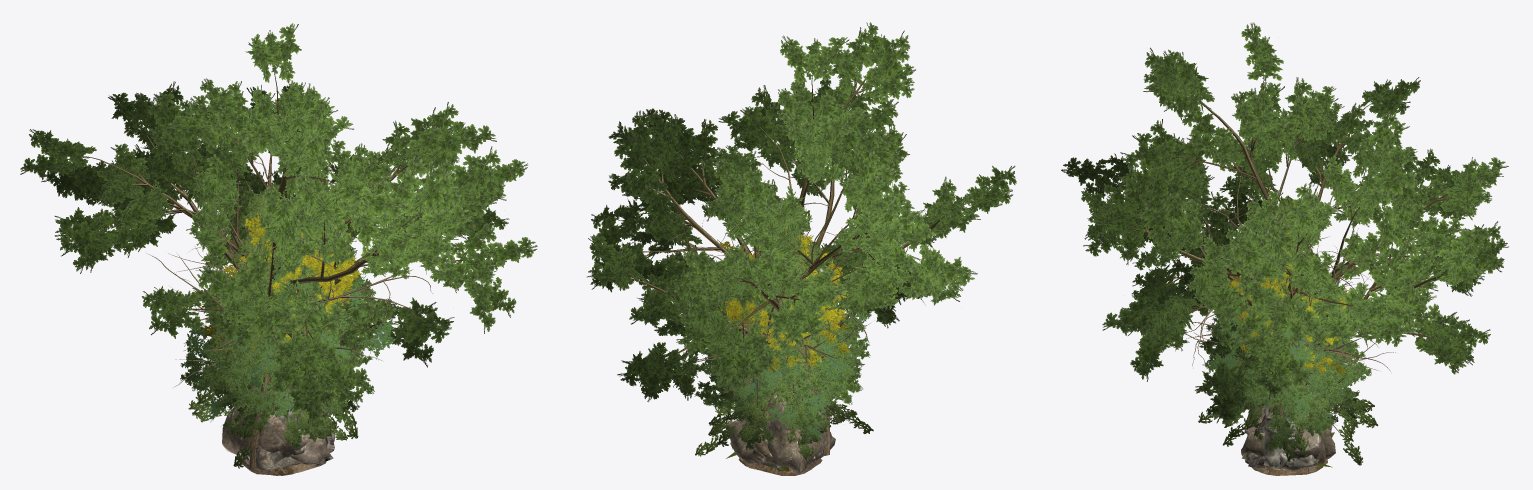
File: nature.gltf
The picture shows the model from 3 angles, left to right: view 1: azimuth 30°, elevation 25°; view 2: azimuth 150°, elevation 25°; view 3: azimuth 270°, elevation 25°; orthographic projection. The views are drawn at different scales.
Visible parts, largest first — view 1: TwistedTree_1, CommonTree_1~b, CommonTree_5, Pine_4, CommonTree_2~b, CommonTree_1, Rock_Medium_3, Pine_4~b, DeadTree_2, CommonTree_4, CommonTree_2, CommonTree_3~b (+3 smaller); view 2: TwistedTree_1, CommonTree_1~b, Pine_4, Pine_4~b, Rock_Medium_3, CommonTree_1, CommonTree_5, CommonTree_2, CommonTree_2~b, CommonTree_4, CommonTree_3~b, CommonTree_3 (+3 smaller); view 3: TwistedTree_1, CommonTree_1, Pine_4, CommonTree_1~b, CommonTree_5, CommonTree_2~b, Pine_4~b, Rock_Medium_3, DeadTree_2, Rock_Medium_3~b, CommonTree_4, Rock_Medium_3~c (+4 smaller).
Boxes of the visible parts, x1,y1,x2,y2 form: TwistedTree_1: [20, 23, 537, 423]; CommonTree_1~b: [180, 263, 374, 426]; CommonTree_5: [191, 278, 384, 441]; Pine_4: [188, 182, 358, 468]; CommonTree_2~b: [184, 259, 398, 404]; CommonTree_1: [196, 264, 372, 449]; Rock_Medium_3: [222, 388, 307, 459]; Pine_4~b: [195, 186, 346, 433]; DeadTree_2: [178, 158, 432, 469]; CommonTree_4: [200, 215, 364, 339]; CommonTree_2: [180, 336, 350, 422]; CommonTree_3~b: [211, 214, 356, 356]; TwistedTree_1: [587, 22, 1016, 401]; CommonTree_1~b: [694, 288, 870, 450]; Pine_4: [695, 202, 873, 460]; Pine_4~b: [708, 198, 857, 434]; Rock_Medium_3: [726, 394, 828, 474]; CommonTree_1: [687, 309, 854, 429]; CommonTree_5: [714, 300, 862, 427]; CommonTree_2: [701, 336, 856, 444]; CommonTree_2~b: [706, 269, 871, 393]; CommonTree_4: [721, 225, 845, 380]; CommonTree_3~b: [717, 225, 853, 358]; CommonTree_3: [722, 235, 852, 346]; TwistedTree_1: [1061, 22, 1508, 423]; CommonTree_1: [1205, 283, 1371, 451]; Pine_4: [1198, 195, 1378, 465]; CommonTree_1~b: [1206, 286, 1366, 437]; CommonTree_5: [1215, 296, 1365, 412]; CommonTree_2~b: [1202, 277, 1363, 409]; Pine_4~b: [1222, 196, 1358, 461]; Rock_Medium_3: [1244, 404, 1332, 465]; DeadTree_2: [1185, 136, 1389, 373]; Rock_Medium_3~b: [1241, 428, 1335, 459]; CommonTree_4: [1228, 232, 1347, 374]; Rock_Medium_3~c: [1263, 404, 1298, 466].
Bounding box in the file's own units: 17.43 × 17.43 × 16.87.
Materials: 22 (22 with a texture image).
